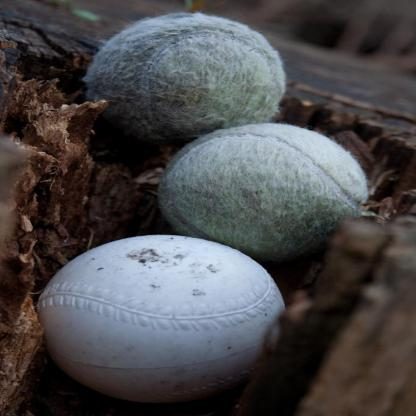Ball: (37, 232, 292, 404), (155, 121, 374, 264), (85, 12, 285, 144)
